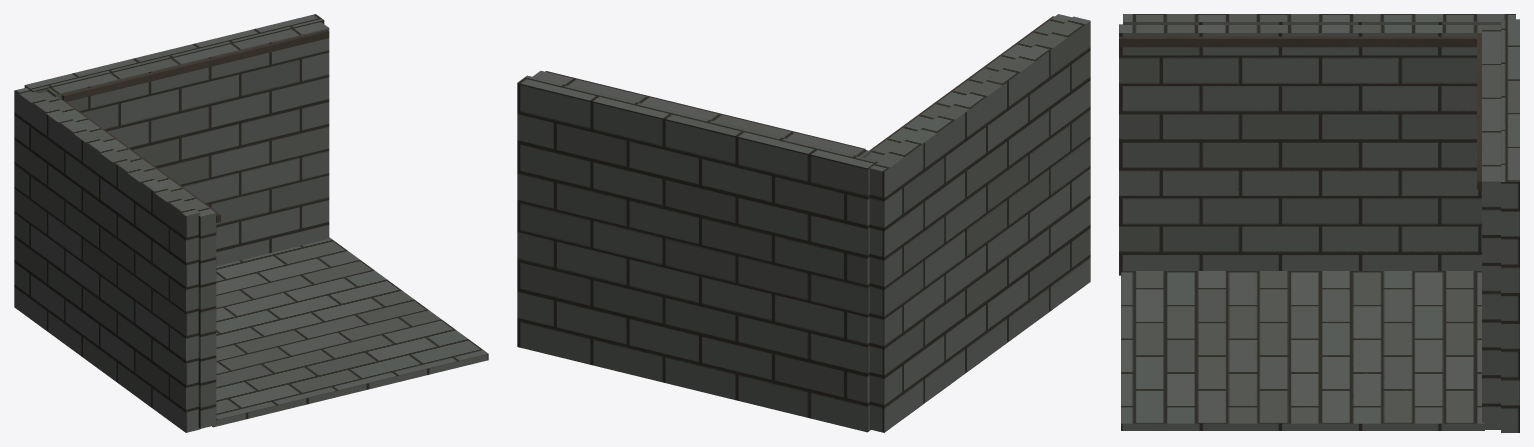
Rendered from dungeon_room_corner.glb.
The picture shows the model from 3 angles, left to right: view 1: azimuth 30°, elevation 25°; view 2: azimuth 150°, elevation 25°; view 3: azimuth 270°, elevation 25°; orthographic projection. The views are drawn at different scales.
Parts seen in each view (by area): view 1: dungeon_room_corner; view 2: dungeon_room_corner; view 3: dungeon_room_corner.
Part boxes in pixels (x1,y1,x2,y2): dungeon_room_corner: (14,14,488,432); dungeon_room_corner: (517,14,1090,432); dungeon_room_corner: (1119,14,1519,432).
Size of the model in its own units: 5.03 by 3.47 by 5.03.
Materials: 1 (1 with a texture image).
